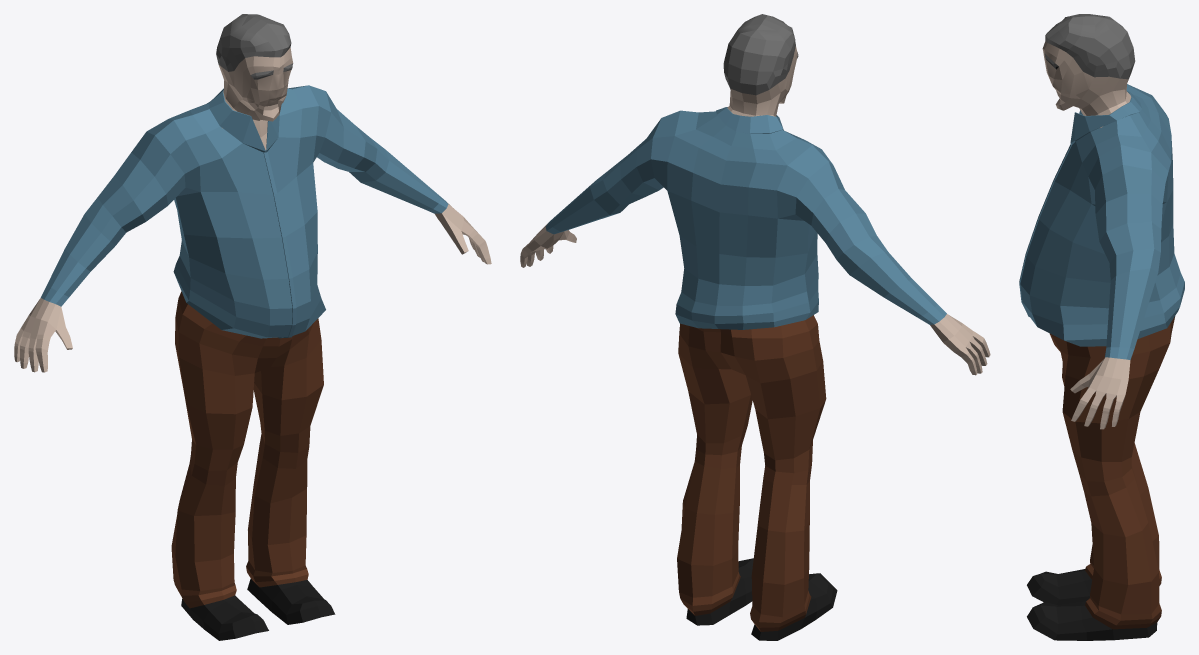
The model's file is ded.fbx.
3 views of the same model, side by side, from view 1: azimuth 30°, elevation 25°; view 2: azimuth 150°, elevation 25°; view 3: azimuth 270°, elevation 25° (orthographic). The views are drawn at different scales.
Visible parts, largest first — view 1: ded; view 2: ded; view 3: ded.
Boxes of the visible parts, bbox=[...] form: ded: bbox=[14, 14, 491, 640]; ded: bbox=[520, 14, 990, 640]; ded: bbox=[1019, 14, 1184, 640].
Bounding box in the file's own units: 134 × 166 × 41.67.
